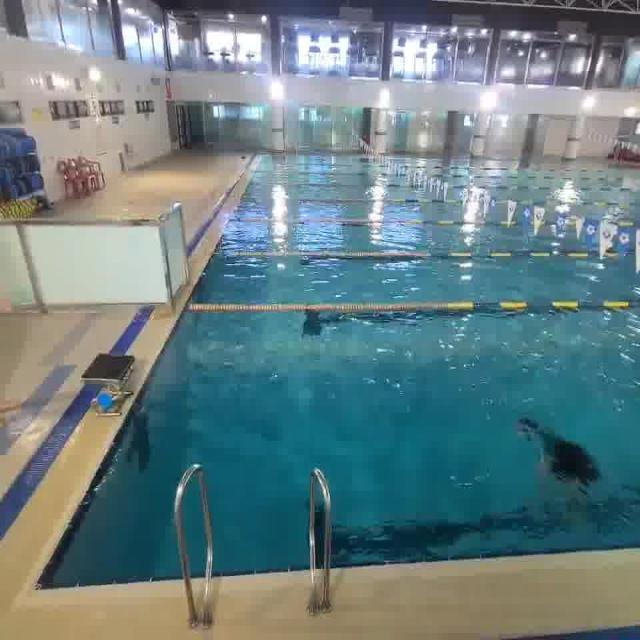drowning: (513, 386, 615, 524)
